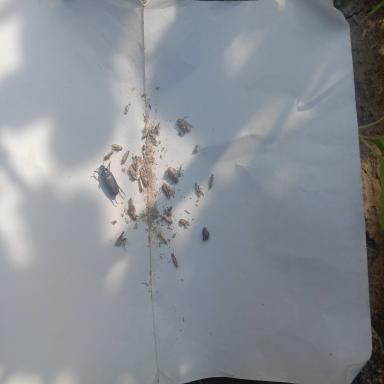pbw: (160, 184, 172, 203), (171, 247, 179, 270), (194, 178, 204, 196), (128, 207, 140, 222), (120, 150, 131, 164), (102, 150, 115, 161), (159, 230, 168, 244), (138, 176, 145, 194), (129, 166, 137, 180), (143, 118, 151, 132), (179, 218, 190, 228), (130, 197, 136, 213), (140, 173, 147, 186), (163, 215, 173, 224), (162, 182, 171, 192), (209, 173, 214, 188), (112, 144, 122, 151), (135, 157, 139, 172)
